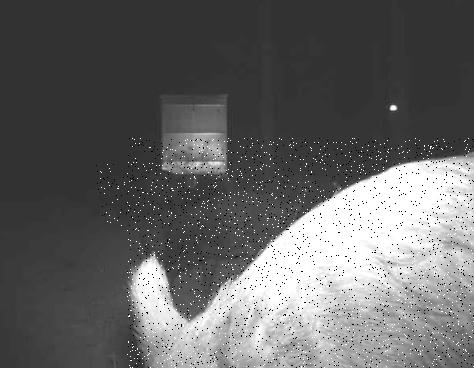Hog: (127, 138, 474, 368), (138, 177, 299, 298), (96, 162, 186, 226)
